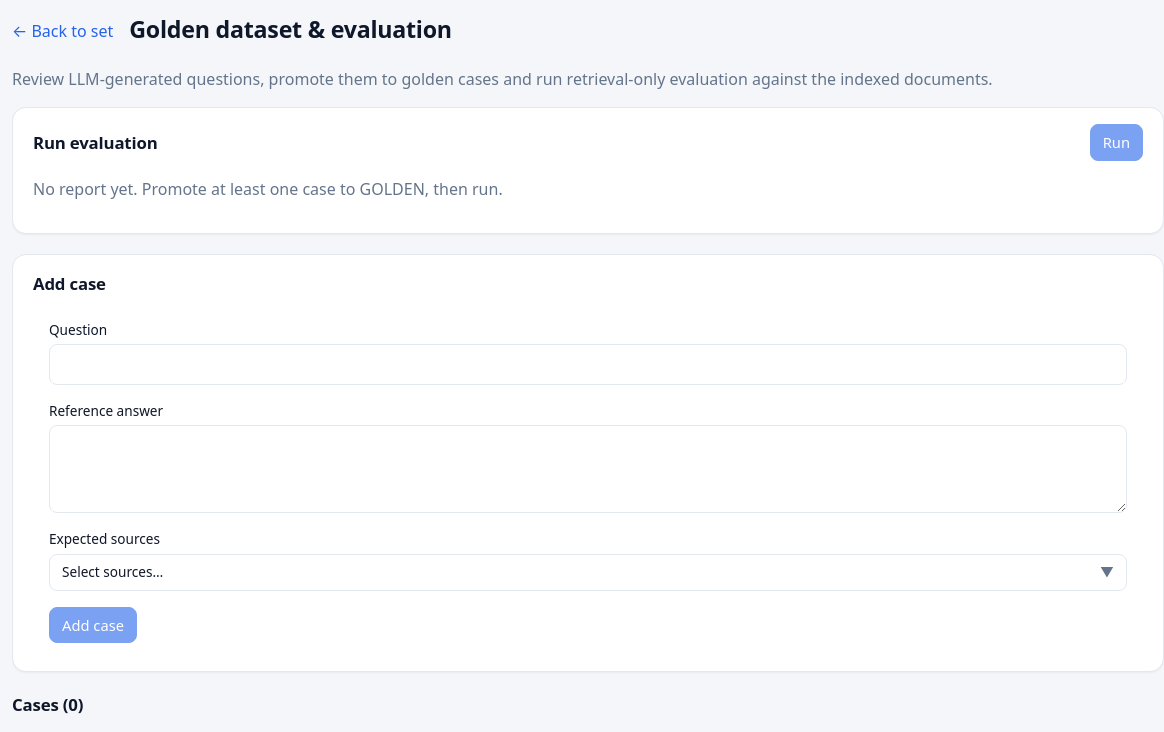
it: GoldenCasesPage › only offers READY documents as expected sources
Click the button with aria-label "Expected sources".
click(113, 571)  # box [49,554,1127,591]
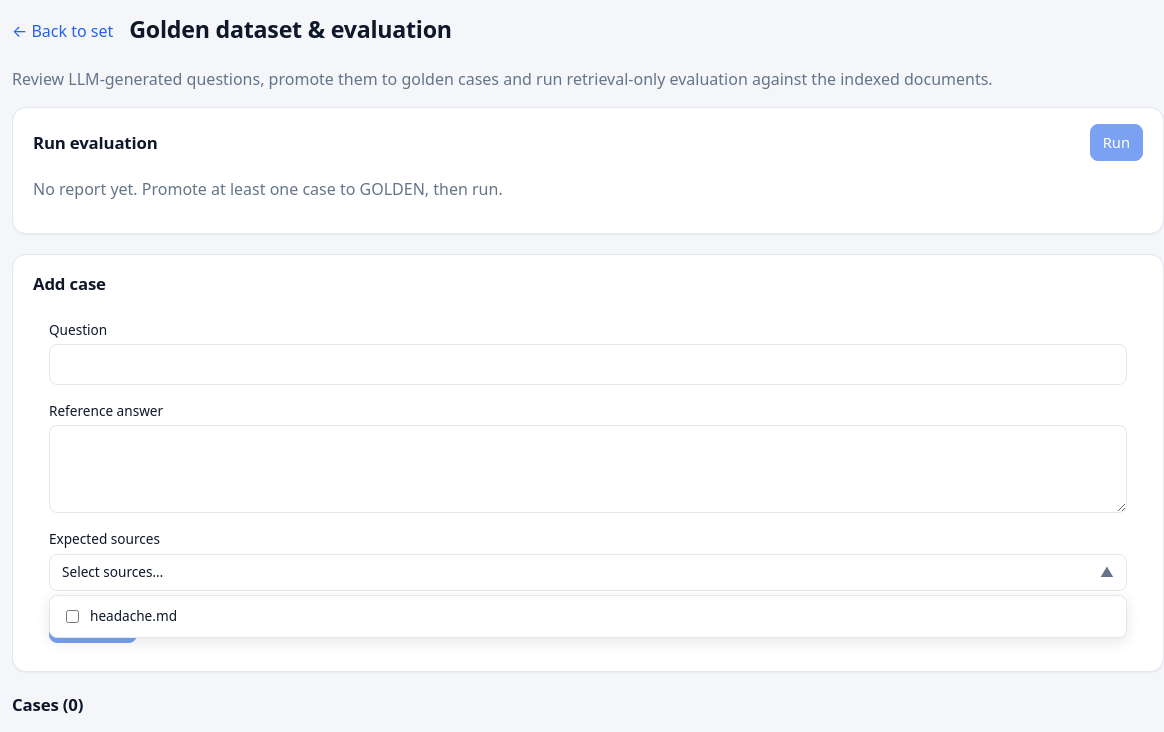
Expected: the checkbox labelled "headache.md" is shown, [66,610,79,623]
